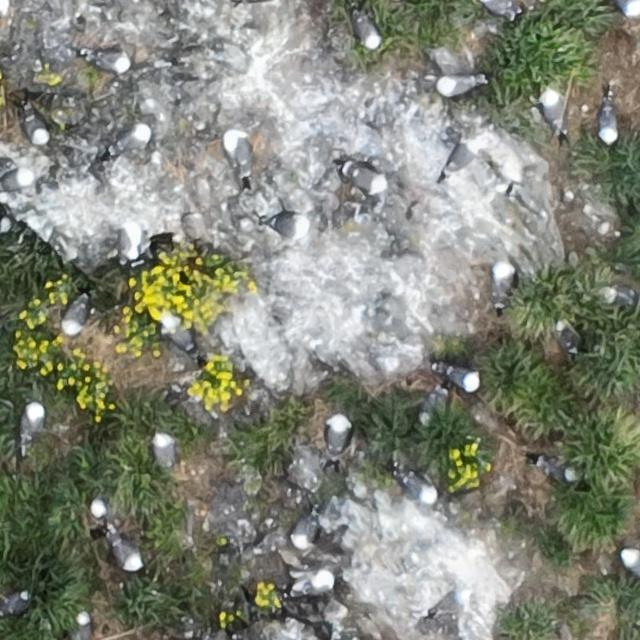umineko: (160, 312, 199, 361), (224, 129, 254, 190), (428, 590, 471, 618), (292, 571, 336, 598), (400, 473, 437, 503), (494, 260, 516, 310), (113, 538, 143, 570), (347, 165, 384, 190), (260, 215, 304, 236), (86, 51, 129, 72), (5, 168, 38, 195), (21, 402, 44, 440), (442, 366, 478, 390), (62, 298, 86, 333), (447, 143, 475, 172), (539, 460, 574, 483), (357, 16, 381, 49), (113, 127, 147, 150), (327, 416, 348, 453), (438, 76, 476, 96), (292, 512, 314, 546), (597, 105, 616, 143), (542, 95, 563, 129), (25, 113, 47, 145), (153, 434, 174, 467), (555, 323, 577, 354), (92, 486, 112, 520), (605, 288, 637, 307), (4, 590, 28, 614), (621, 549, 640, 577), (74, 612, 93, 640), (481, 0, 515, 15), (0, 212, 10, 234)
